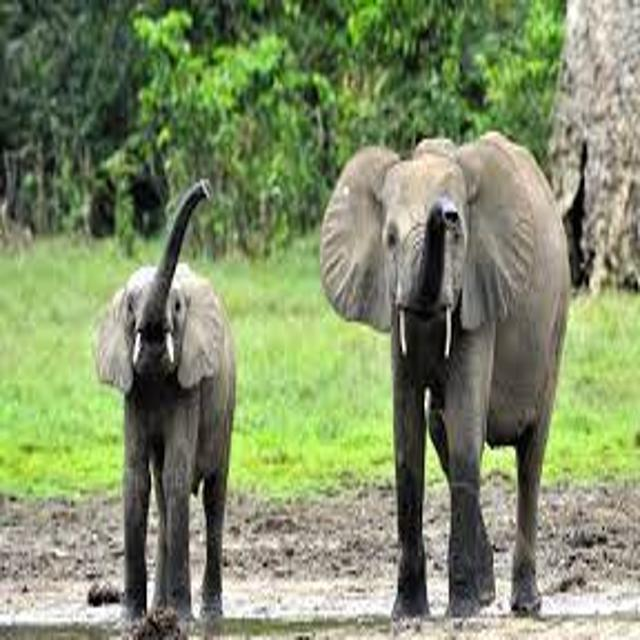Elephant: (298, 109, 590, 621), (60, 166, 269, 640)
